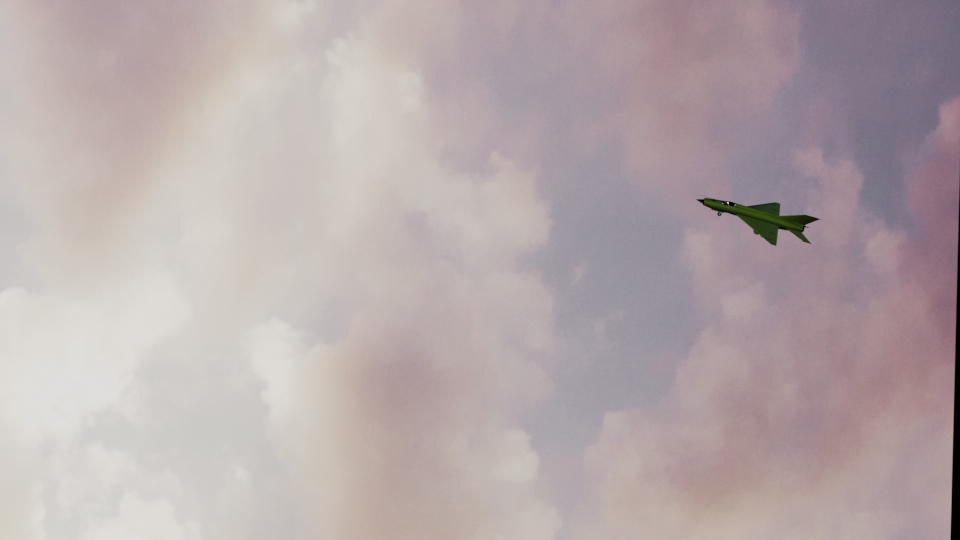plane: (698, 195, 821, 244)
